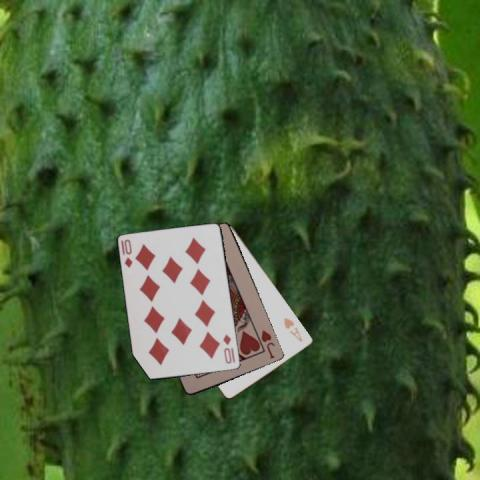10d: (220, 332, 233, 365), (121, 236, 134, 269)
Ah: (281, 314, 304, 343)
Jh: (258, 327, 276, 360)
